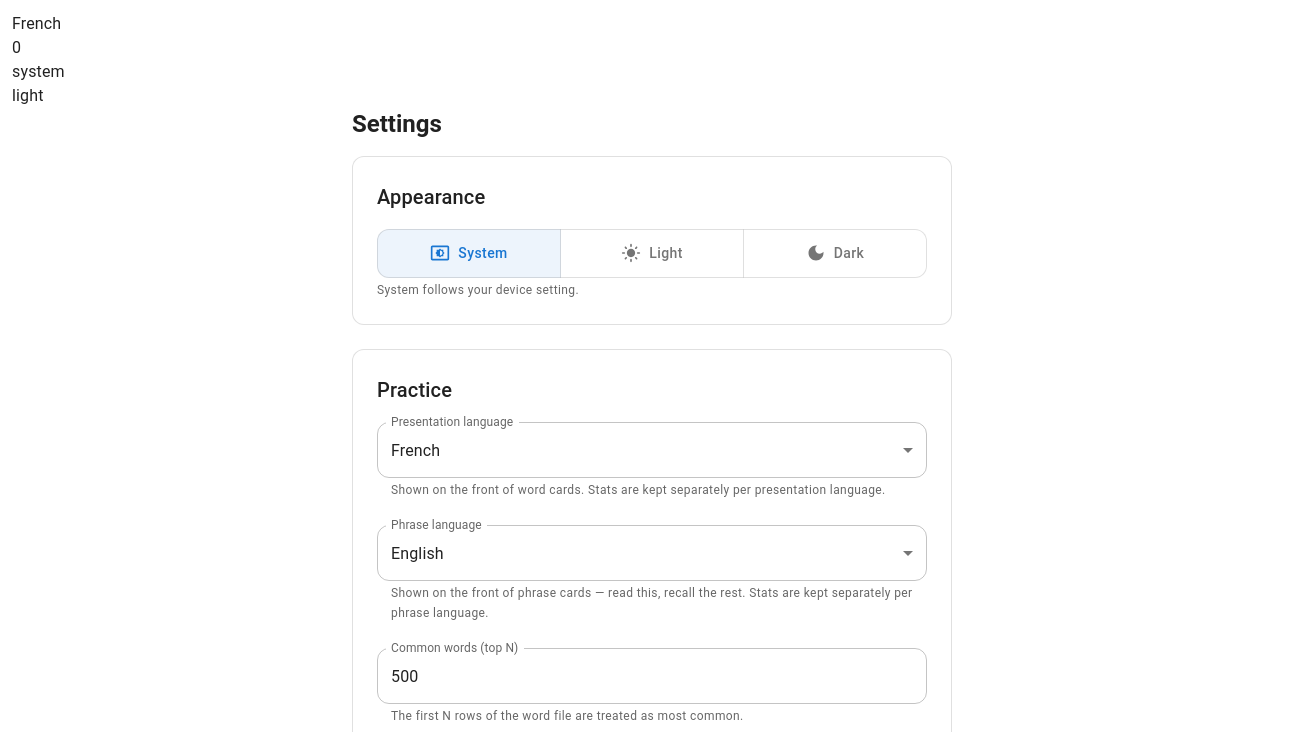
Test: SettingsPage › switches the theme to dark and persists the choice
Expected: the heading "Practice" is shown, [377, 378, 452, 402]
Expected: the text with test id "theme-mode" reads "system", [12, 62, 65, 81]
Click the button "Dark": (835, 253) [743, 229, 927, 278]
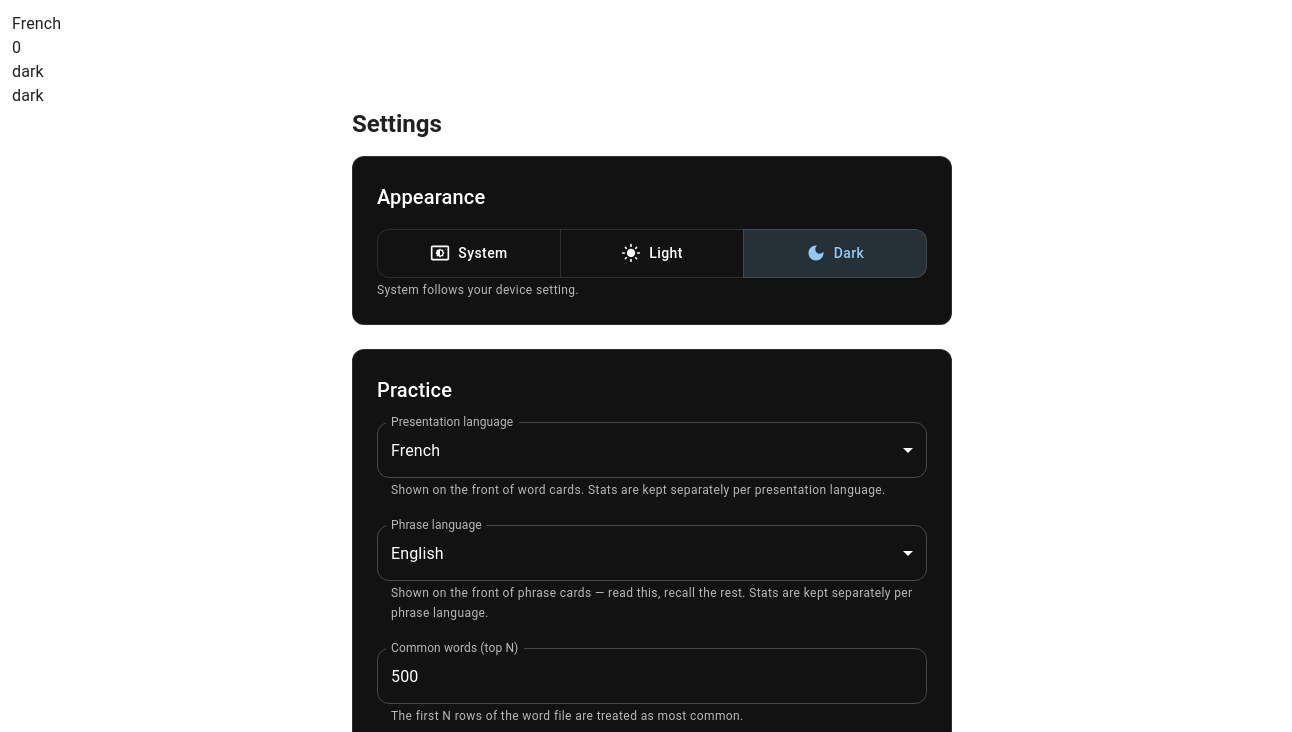
Expected: the text with test id "theme-mode" reads "dark", [12, 62, 44, 81]
Expected: the text with test id "palette-mode" reads "dark", [12, 86, 44, 105]
